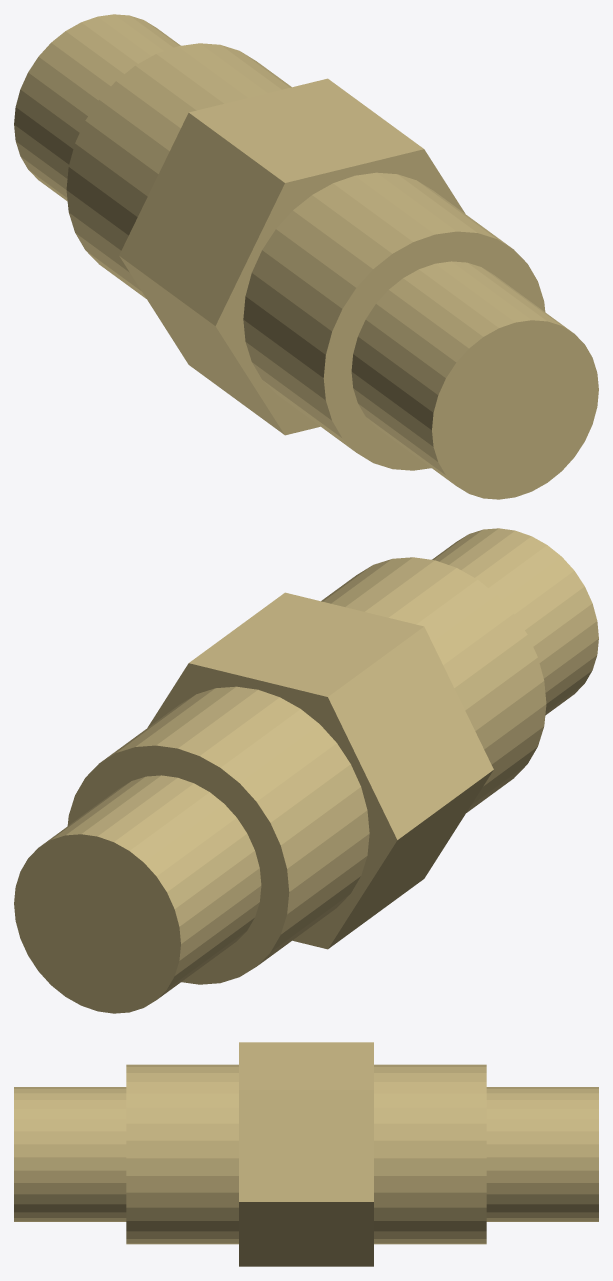
The picture shows the model from 3 angles, top to bottom: view 1: azimuth 30°, elevation 25°; view 2: azimuth 150°, elevation 25°; view 3: azimuth 270°, elevation 25°; orthographic projection. The views are drawn at different scales.
Visible parts, largest first — view 1: world; view 2: world; view 3: world.
Part boxes in pixels (box(x1,y1,x2,y2)): world: box(14, 14, 598, 499); world: box(14, 528, 598, 1013); world: box(14, 1042, 598, 1266).
Bounding box in the file's own units: 0.5 × 0.433 × 1.3.
